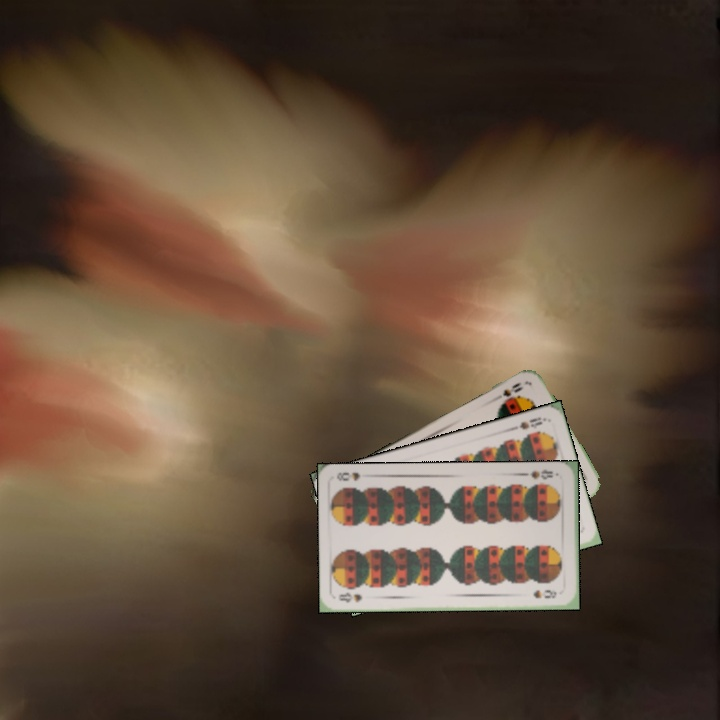S8: (509, 413, 549, 433), (521, 465, 555, 482), (335, 588, 365, 605)
SO: (490, 378, 526, 405)
